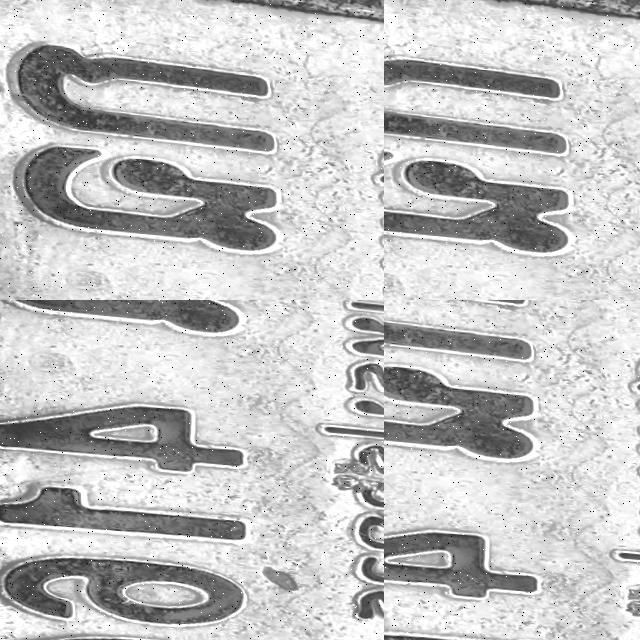license-plate: (384, 300, 640, 640)
